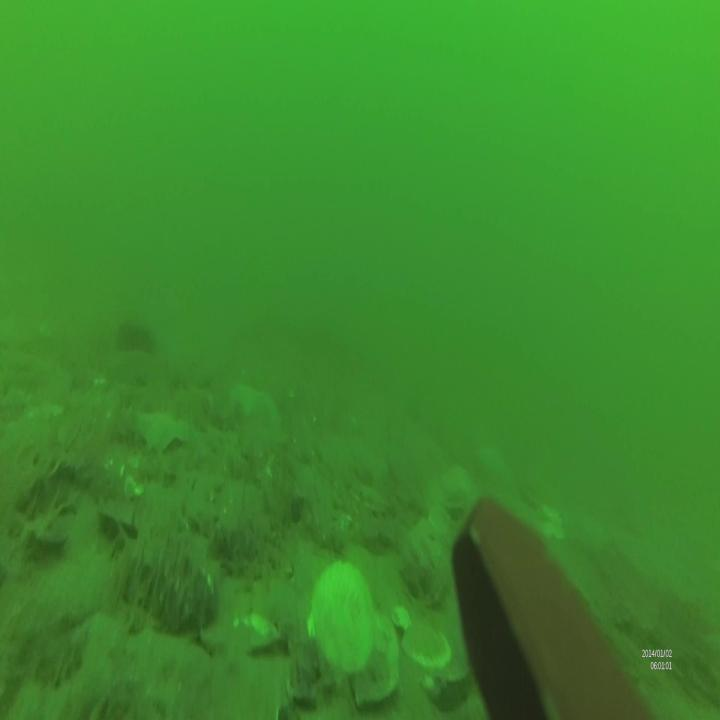scallop: (306, 563, 373, 687), (403, 621, 450, 671)
starfish: (136, 408, 188, 457)
